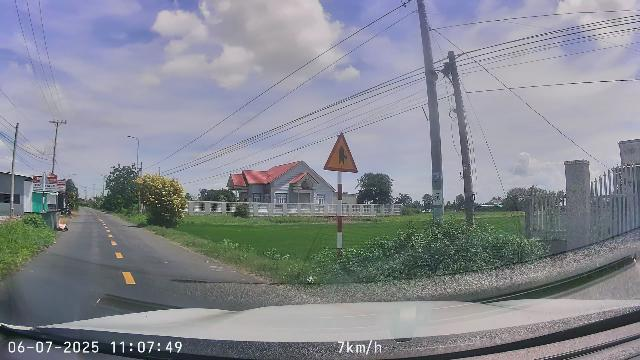207-giao-nhau-voi-duong-khong-uu-tien: (324, 133, 358, 172)
